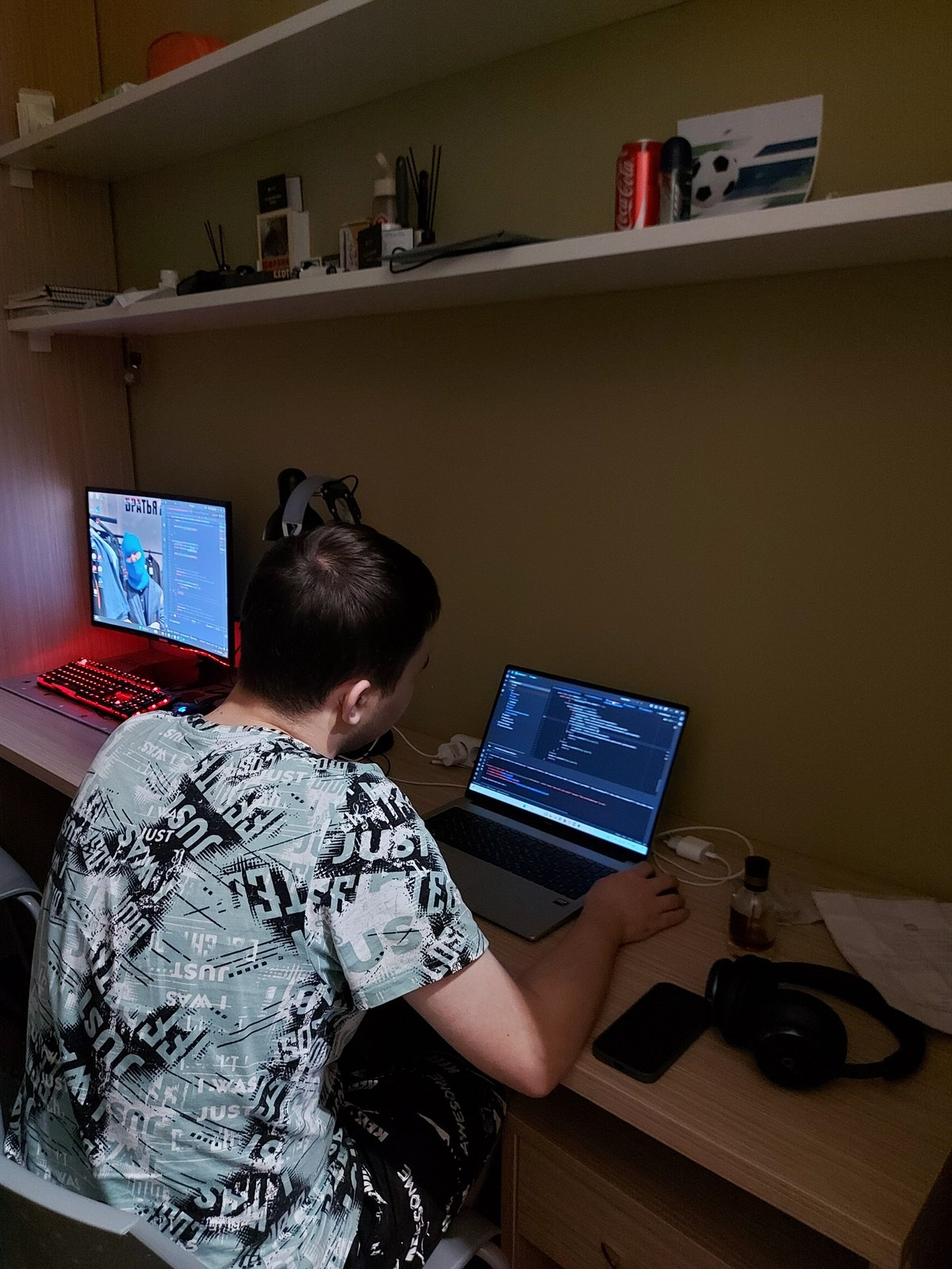cell phone: (592, 981, 711, 1084)
laptop: (419, 663, 690, 943)
